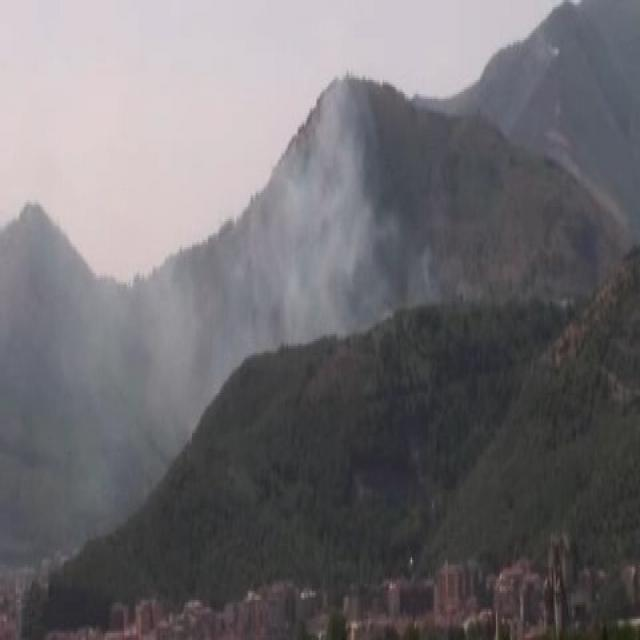smoke: (248, 99, 392, 338), (30, 274, 214, 431)
